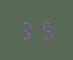five: (36, 19, 52, 40)
three: (19, 19, 35, 39)
